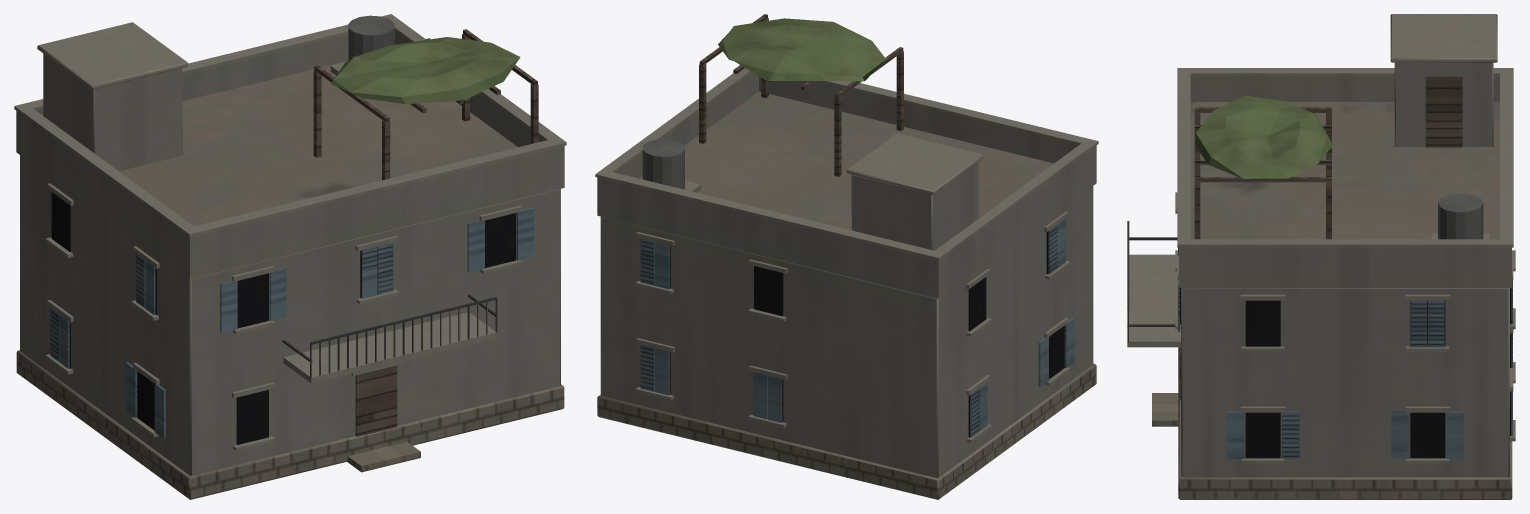
The model's file is a13_house_2.glb.
The picture shows the model from 3 angles, left to right: view 1: azimuth 30°, elevation 25°; view 2: azimuth 150°, elevation 25°; view 3: azimuth 270°, elevation 25°; orthographic projection. The views are drawn at different scales.
Visible parts, largest first — view 1: body; view 2: body; view 3: body.
Boxes of the visible parts, <box> form: body: <box>14,14,566,499</box>; body: <box>595,14,1098,499</box>; body: <box>1127,14,1515,499</box>.
Bounding box in the file's own units: 1 × 0.8556 × 0.9188.
Materials: 1 (1 with a texture image).
